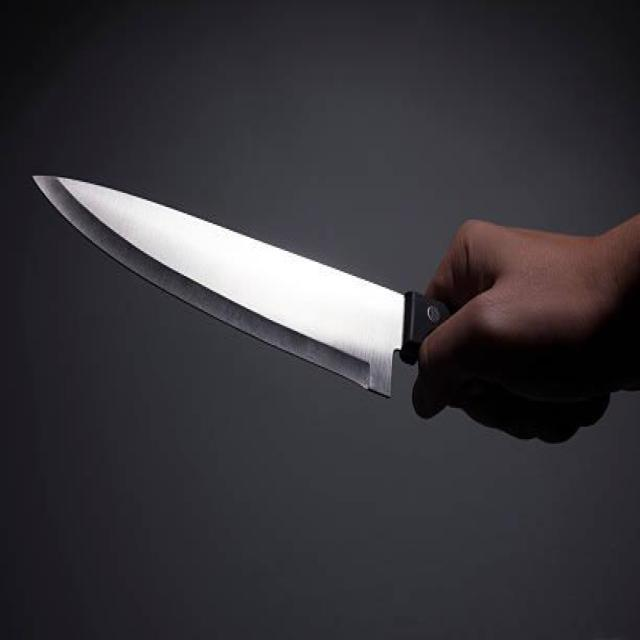faca: (28, 151, 626, 472)
